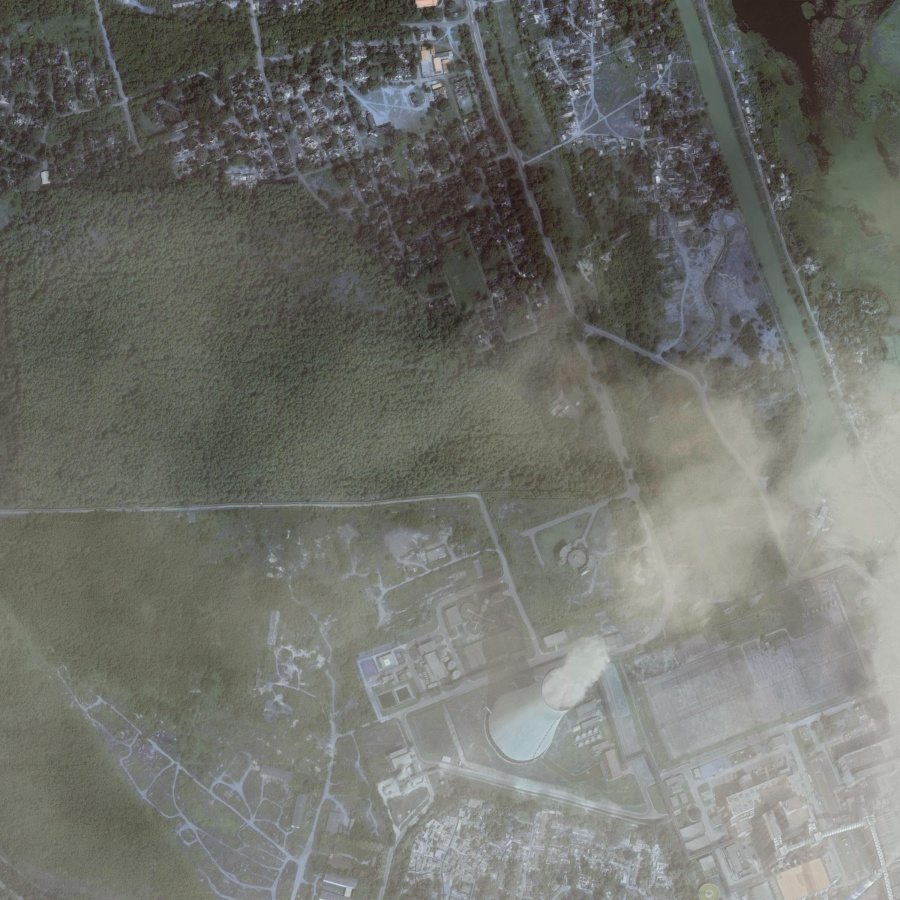PowerPlant: (478, 596, 633, 807)
